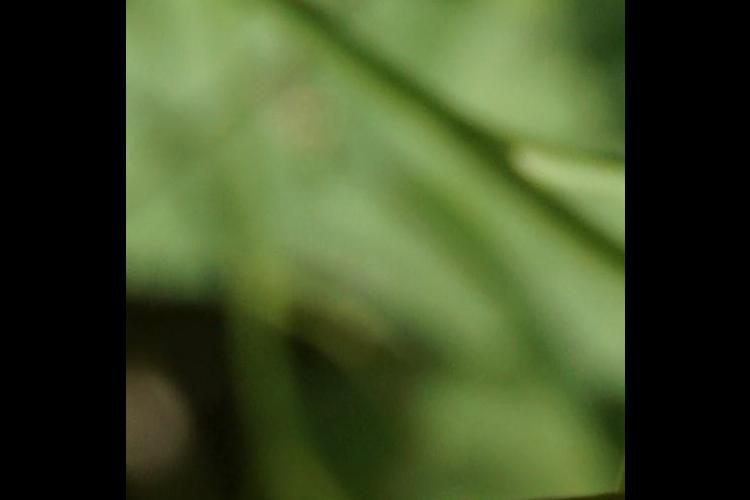pod: (434, 479, 624, 500)
